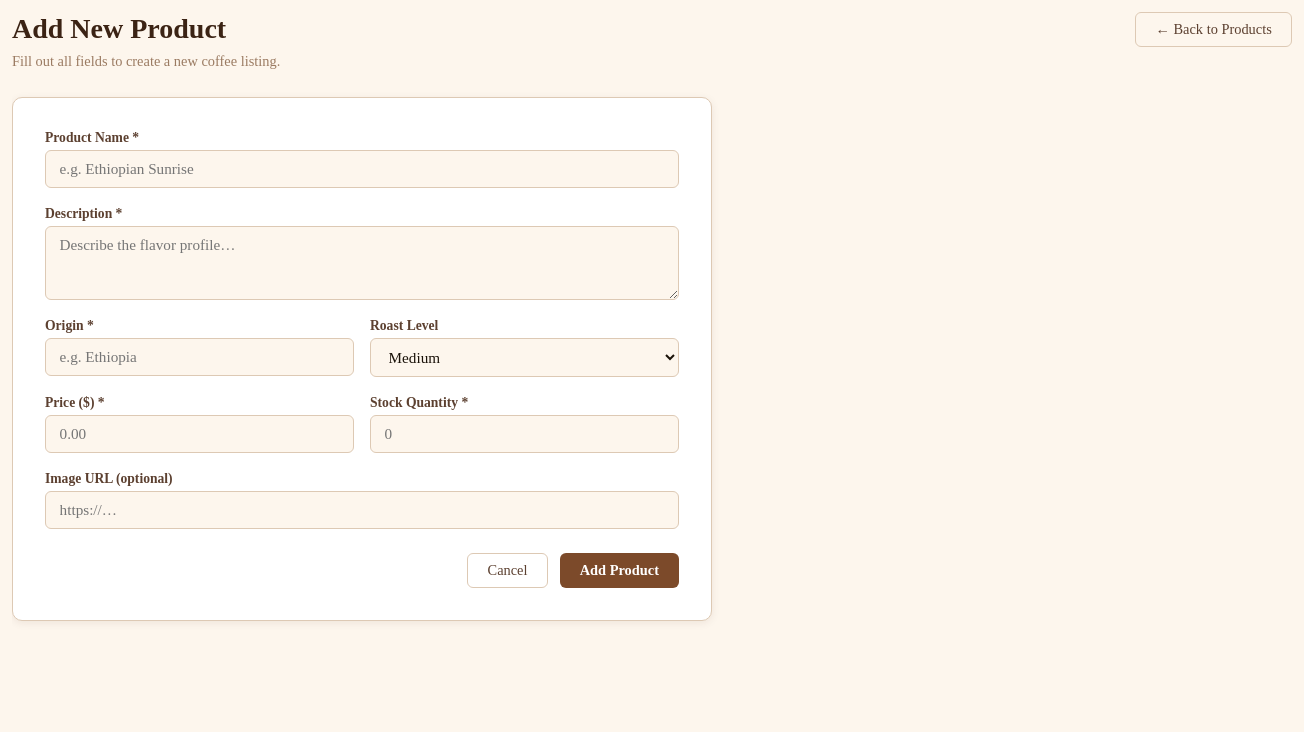
Test: AddProductPage › shows validation errors when submitting empty form
The image size is (1304, 732).
Step 1. Click the button "Add Product" → point(619, 570), box top-left (560, 553), bottom-right (679, 588)
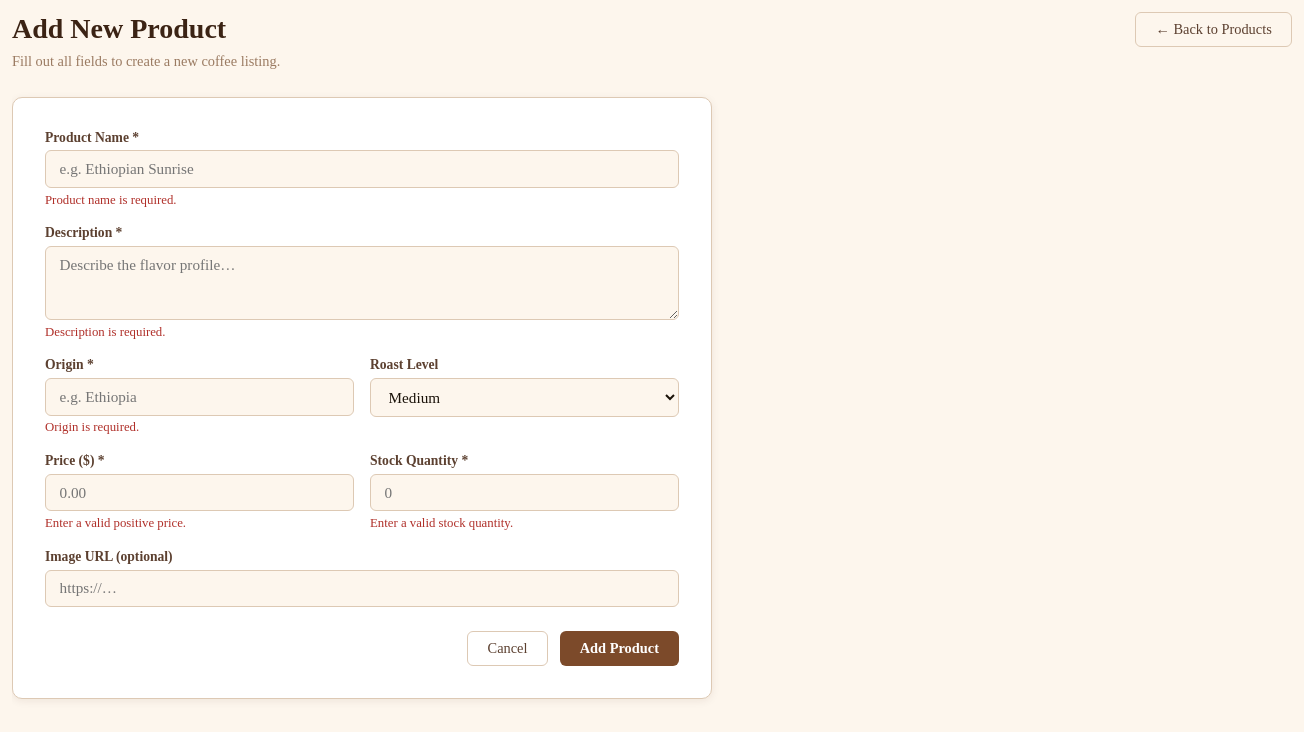
Expected: the text "Product name is required." is shown, top-left (45, 193), bottom-right (176, 207)
